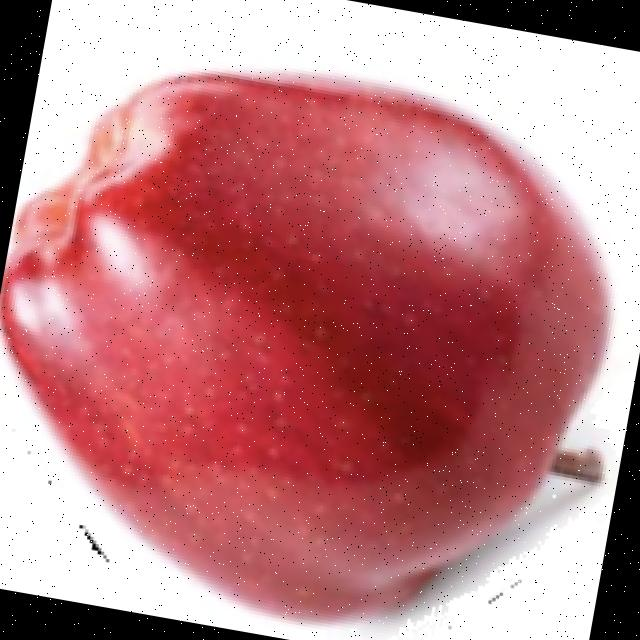apple: (0, 62, 618, 640)
